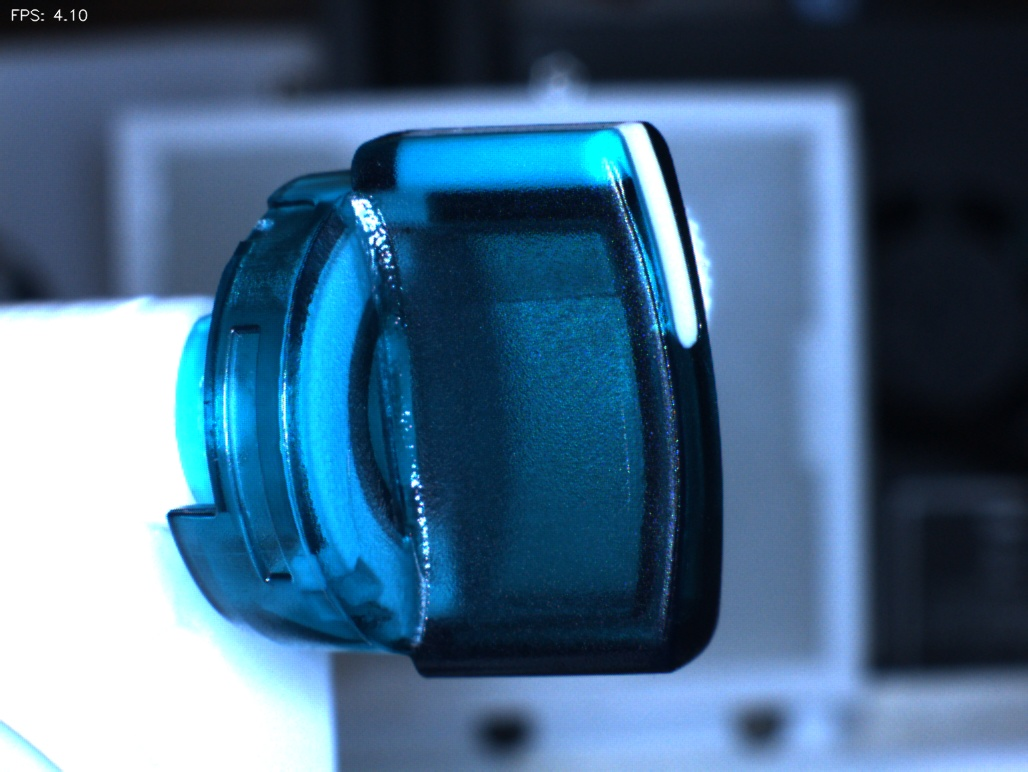PointNoir: (378, 203, 443, 268)
